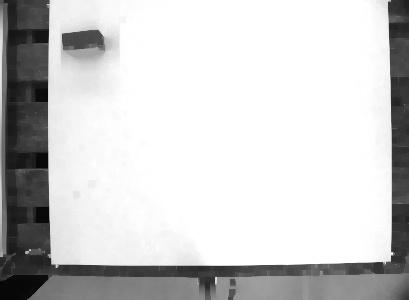b3: (59, 28, 107, 58)
